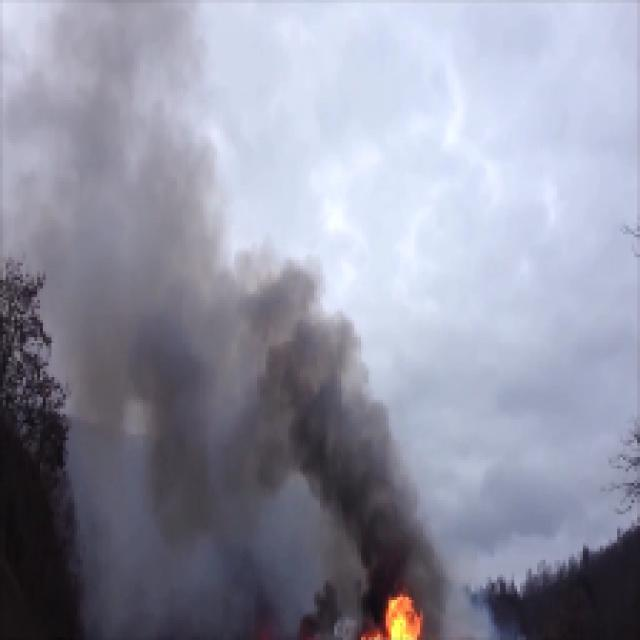fire: (375, 592, 416, 636)
smoke: (221, 298, 318, 474), (324, 430, 408, 560)
